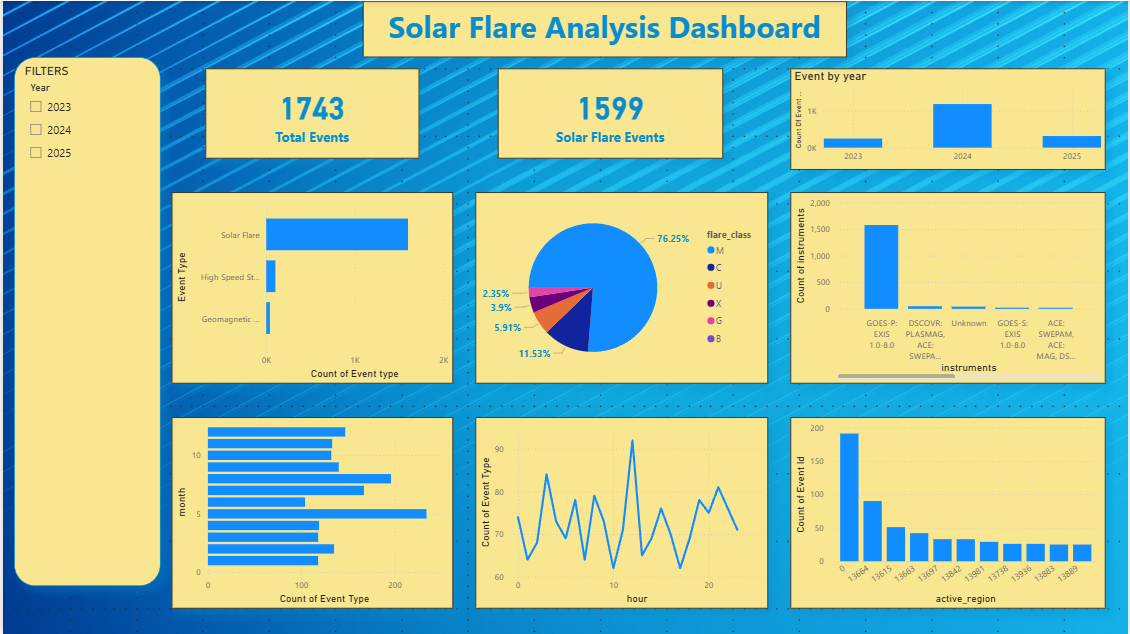

Layout of this report page (visuals, bound fields, positions):
{"tool":"powerbi","page":{"name":"Page 1","canvas":[1600,900],"ordinal":0},"visuals":[{"type":"card","fields":{"Values":["CountNonNull(cleaned_space_weather.event_id)"]},"box":[288,96,304,128],"z":0},{"type":"card","fields":{"Values":["cleaned_space_weather.Solar Flare Events"]},"box":[704,96,320,128],"z":1000},{"type":"clusteredBarChart","title":"Distribution of Space Weather Events","fields":{"Category":["cleaned_space_weather.event_type"],"Y":["CountNonNull(cleaned_space_weather.event_type)"]},"box":[240,272,400,272],"z":2000},{"type":"pieChart","title":"Solar Flare Categories","fields":{"Y":["CountNonNull(cleaned_space_weather.flare_class)"],"Category":["cleaned_space_weather.flare_class"]},"box":[672,272,416,272],"z":3000},{"type":"clusteredColumnChart","title":"Event by year","fields":{"Category":["cleaned_space_weather.year"],"Y":["CountNonNull(cleaned_space_weather.event_type)"]},"box":[1120,96,448,144],"z":4000},{"type":"clusteredBarChart","title":"Monthly Solar Activity","fields":{"Category":["cleaned_space_weather.month"],"Y":["CountNonNull(cleaned_space_weather.event_type)"]},"box":[240,592,400,272],"z":5000},{"type":"lineChart","title":"Hourly Event Distribution","fields":{"Category":["cleaned_space_weather.hour"],"Y":["CountNonNull(cleaned_space_weather.event_type)"]},"box":[672,592,416,272],"z":6000},{"type":"clusteredColumnChart","title":"Top 10 Solar Regions Chart ","fields":{"Category":["cleaned_space_weather.active_region"],"Y":["CountNonNull(cleaned_space_weather.event_id)"]},"box":[1120,592,448,272],"z":7000},{"type":"clusteredColumnChart","fields":{"Category":["cleaned_space_weather.instruments"],"Y":["CountNonNull(cleaned_space_weather.instruments)"]},"box":[1120,272,448,272],"z":8000},{"type":"slicer","title":"FILTERS","fields":{"Values":["cleaned_space_weather.year"]},"box":[16,80,208,752],"z":8001},{"type":"textbox","box":[512,0,688,80],"z":8002}]}

Visuals, with their boxes in screenshot pixels (x1, y1, x2, y2), scaled from the page's 1600x900 canvas onto the 1130x634 screenshot:
card - CountNonNull(cleaned_space_weather.event_id): rect(203, 68, 418, 158)
card - cleaned_space_weather.Solar Flare Events: rect(497, 68, 723, 158)
"Distribution of Space Weather Events" clusteredBarChart: rect(170, 192, 452, 383)
"Solar Flare Categories" pieChart: rect(475, 192, 768, 383)
"Event by year" clusteredColumnChart: rect(791, 68, 1107, 169)
"Monthly Solar Activity" clusteredBarChart: rect(170, 417, 452, 609)
"Hourly Event Distribution" lineChart: rect(475, 417, 768, 609)
"Top 10 Solar Regions Chart " clusteredColumnChart: rect(791, 417, 1107, 609)
clusteredColumnChart - cleaned_space_weather.instruments x CountNonNull(cleaned_space_weather.instruments): rect(791, 192, 1107, 383)
"FILTERS" slicer: rect(11, 56, 158, 586)
textbox: rect(362, 0, 848, 56)
